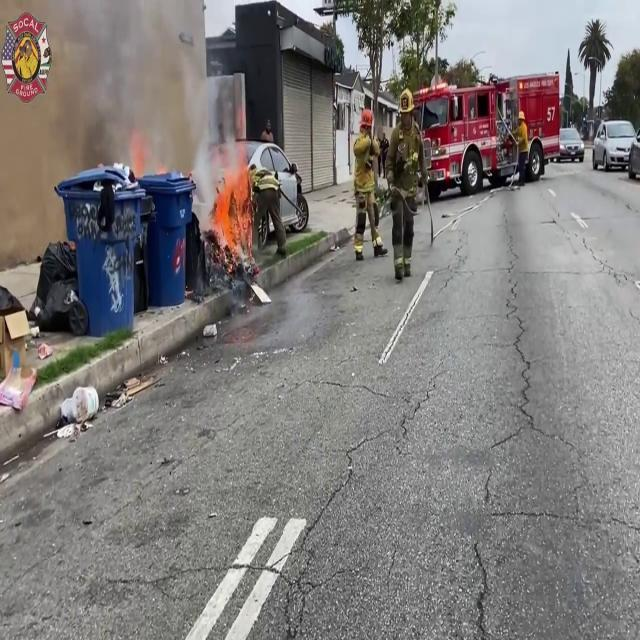Fire: (210, 150, 253, 266)
Smoke: (36, 1, 222, 184)
